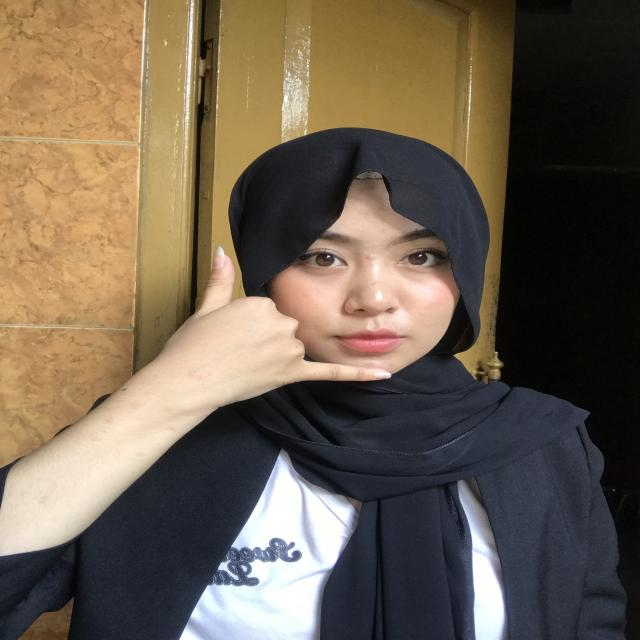telpon: (140, 230, 406, 423)
